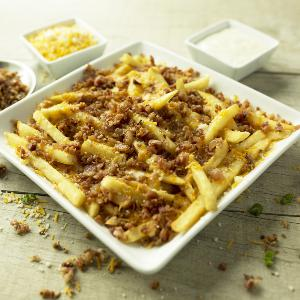fries_350cal: (35, 94, 276, 207)
